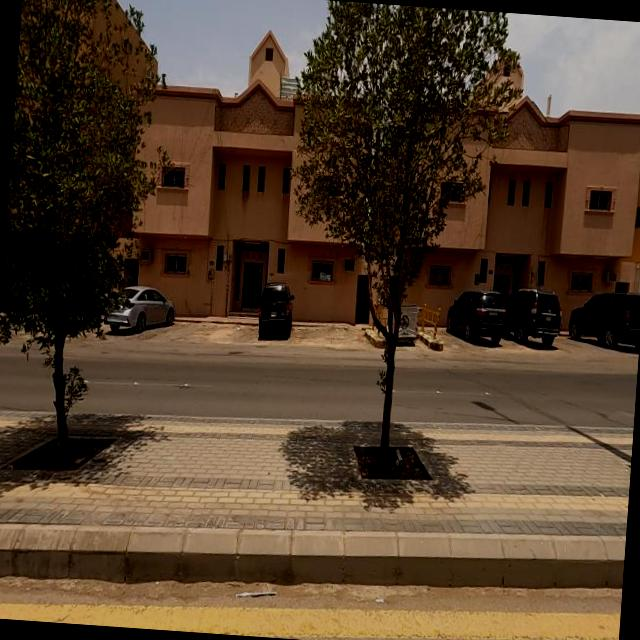debris: (378, 428, 424, 487)
